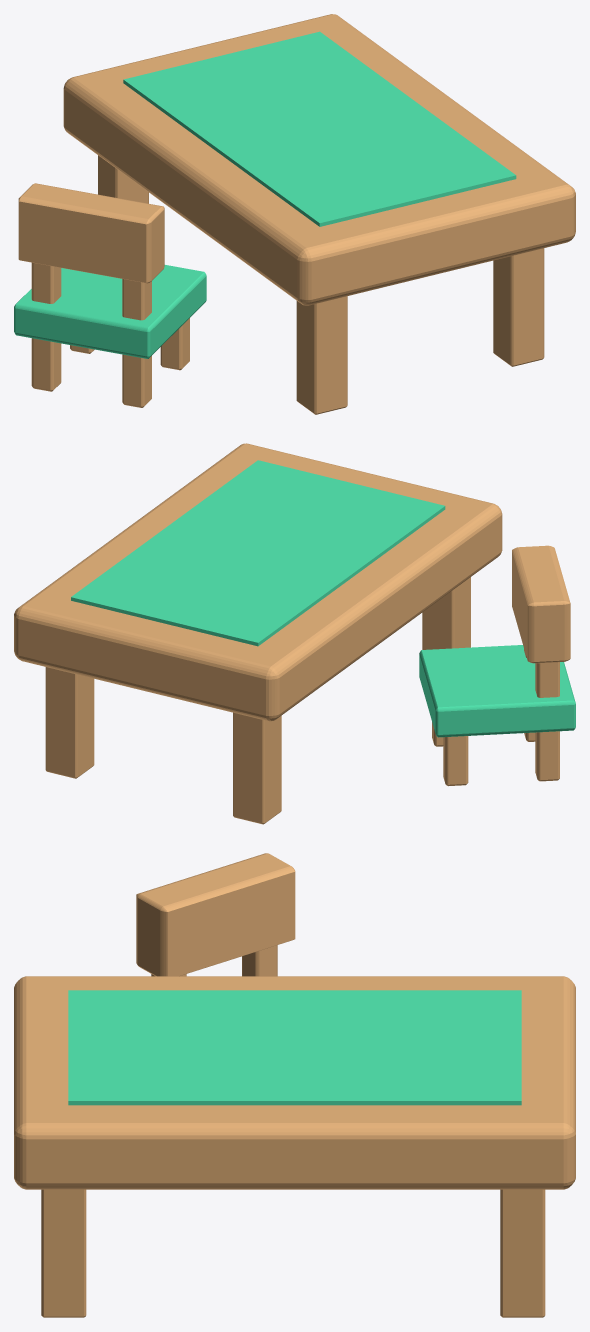
Rendered from desk_chair.glb.
The picture shows the model from 3 angles, top to bottom: view 1: azimuth 30°, elevation 25°; view 2: azimuth 150°, elevation 25°; view 3: azimuth 270°, elevation 25°; orthographic projection. The views are drawn at different scales.
Visible parts, largest first — view 1: Cube, 立方体.005, 立方体.004, 立方体.001, 立方体, 立方体.006, 立方体.007, 立方体.003, 立方体.009; view 2: Cube, 立方体.004, 立方体.005, 立方体.002, 立方体.003, 立方体.001, 立方体.006, 立方体.008; view 3: Cube, 立方体.005, 立方体, 立方体.002, 立方体.006.
Boxes of the visible parts, <box> form: Cube: <box>63,14,575,305</box>; 立方体.005: <box>18,183,164,283</box>; 立方体.004: <box>14,265,206,358</box>; 立方体.001: <box>296,296,347,414</box>; 立方体: <box>493,248,544,366</box>; 立方体.006: <box>31,262,61,391</box>; 立方体.007: <box>122,279,151,407</box>; 立方体.003: <box>98,155,148,203</box>; 立方体.009: <box>160,318,189,370</box>; Cube: <box>14,443,502,721</box>; 立方体.004: <box>419,645,575,737</box>; 立方体.005: <box>512,545,570,663</box>; 立方体.002: <box>45,667,94,778</box>; 立方体.003: <box>233,712,281,824</box>; 立方体.001: <box>422,577,470,649</box>; 立方体.006: <box>535,662,559,781</box>; 立方体.008: <box>443,736,468,786</box>; Cube: <box>14,976,575,1189</box>; 立方体.005: <box>136,853,295,976</box>; 立方体: <box>41,1189,86,1317</box>; 立方体.002: <box>500,1189,545,1317</box>; 立方体.006: <box>242,945,277,976</box>.
Size of what is drawn, in the model's own units: 3.29 by 1.34 by 3.03.
